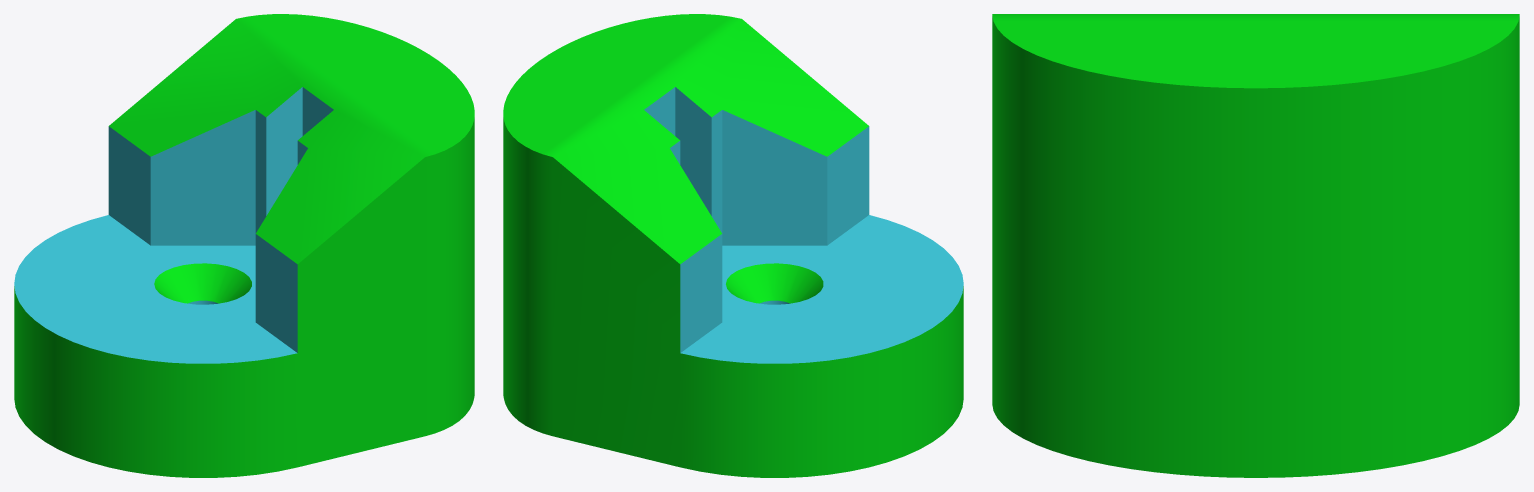
The model's file is tut3qn2a.gltf.
3 renders of one model, left to right at view 1: azimuth 30°, elevation 25°; view 2: azimuth 150°, elevation 25°; view 3: azimuth 270°, elevation 25°, orthographic. The views are drawn at different scales.
Visible parts, largest first — view 1: tut3qn2a (1); view 2: tut3qn2a (1); view 3: tut3qn2a (1).
Boxes of the visible parts, <box> form: tut3qn2a (1): <box>14,14,474,477</box>; tut3qn2a (1): <box>503,14,963,477</box>; tut3qn2a (1): <box>992,14,1519,477</box>.
Bounding box in the file's own units: 13.19 × 8.8 × 10.8.
